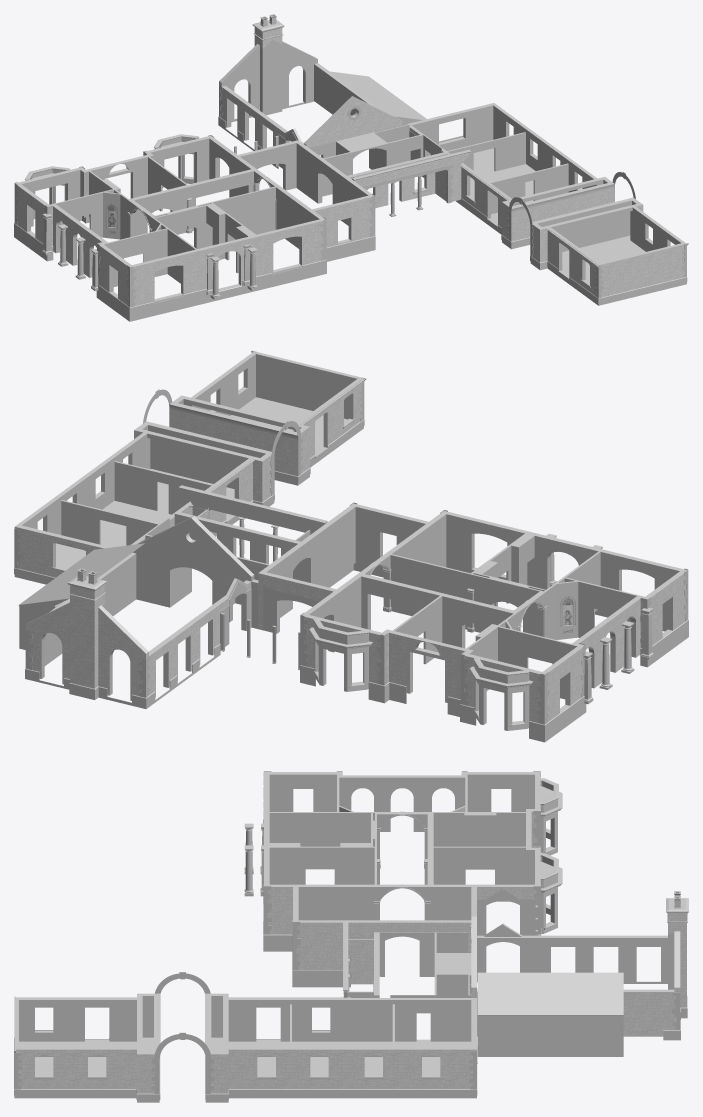
File: RB05__Storey__GroundFloor__ProposedWalls__MeshModel__.glb
3 renders of one model, top to bottom at view 1: azimuth 30°, elevation 25°; view 2: azimuth 150°, elevation 25°; view 3: azimuth 270°, elevation 25°, orthographic. The views are drawn at different scales.
Parts seen in each view (by area): view 1: 21__ProposedBuilding__Walls::Default, 21__ProposedBuilding__Walls::MAT000E__Masonry__StoneworkPatt; view 2: 21__ProposedBuilding__Walls::Default, 21__ProposedBuilding__Walls::MAT000E__Masonry__StoneworkPatt; view 3: 21__ProposedBuilding__Walls::Default, 21__ProposedBuilding__Walls::MAT000E__Masonry__StoneworkPatt.
Boxes of the visible parts, x1,y1,x2,y2 form: 21__ProposedBuilding__Walls::Default: [14, 20, 688, 321]; 21__ProposedBuilding__Walls::MAT000E__Masonry__StoneworkPatt: [16, 27, 684, 305]; 21__ProposedBuilding__Walls::Default: [14, 350, 688, 742]; 21__ProposedBuilding__Walls::MAT000E__Masonry__StoneworkPatt: [14, 383, 686, 722]; 21__ProposedBuilding__Walls::Default: [14, 771, 688, 1102]; 21__ProposedBuilding__Walls::MAT000E__Masonry__StoneworkPatt: [16, 811, 686, 1093].
Size of the model in its own units: 42.08 by 8.9 by 44.12.
4 materials, 2 textured.
